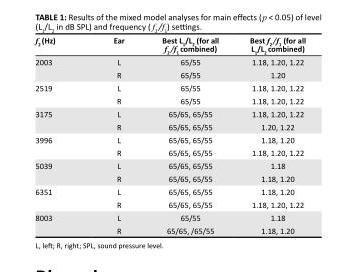table: (34, 34, 305, 234)
table column: (142, 34, 233, 234), (233, 34, 305, 234), (83, 34, 142, 234), (34, 34, 83, 234)
table column header: (34, 34, 305, 56)
table row: (34, 34, 305, 56), (34, 68, 305, 81), (34, 81, 305, 94), (34, 94, 305, 107), (34, 107, 305, 120), (34, 120, 305, 133), (34, 133, 305, 146), (34, 146, 305, 159), (34, 159, 305, 172), (34, 172, 305, 185), (34, 185, 305, 198), (34, 198, 305, 211), (34, 211, 305, 224), (34, 56, 305, 68), (34, 224, 305, 234)
table spanning cell: (34, 81, 83, 107), (34, 107, 83, 133), (34, 133, 83, 159), (34, 159, 83, 185), (34, 185, 83, 211), (34, 56, 83, 81), (34, 211, 83, 234)
